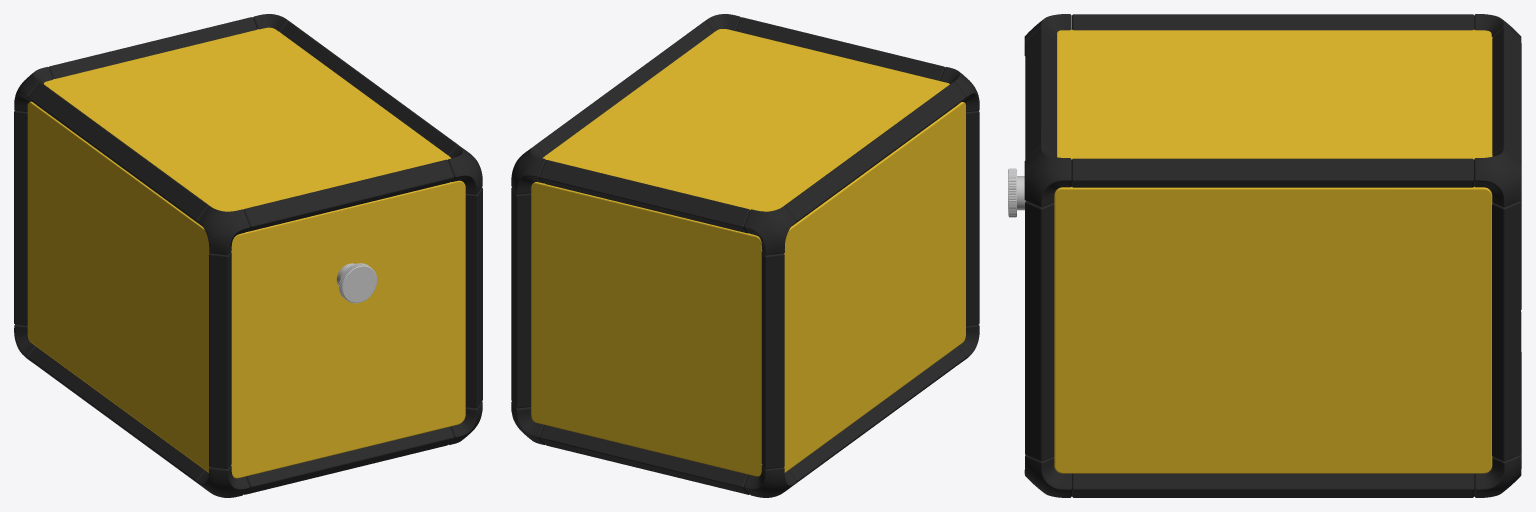
3 renders of one model, left to right at view 1: azimuth 30°, elevation 25°; view 2: azimuth 150°, elevation 25°; view 3: azimuth 270°, elevation 25°, orthographic. The views are drawn at different scales.
Visible parts, largest first — view 1: 229x329x229; view 2: 229x329x229; view 3: 229x329x229.
Part boxes in pixels (x1=…): 229x329x229: x1=14, y1=14, x2=482, y2=497; 229x329x229: x1=511, y1=14, x2=979, y2=497; 229x329x229: x1=1008, y1=14, x2=1521, y2=497.
Size of the model in its own units: 0.3067 by 0.3066 by 0.4196.
